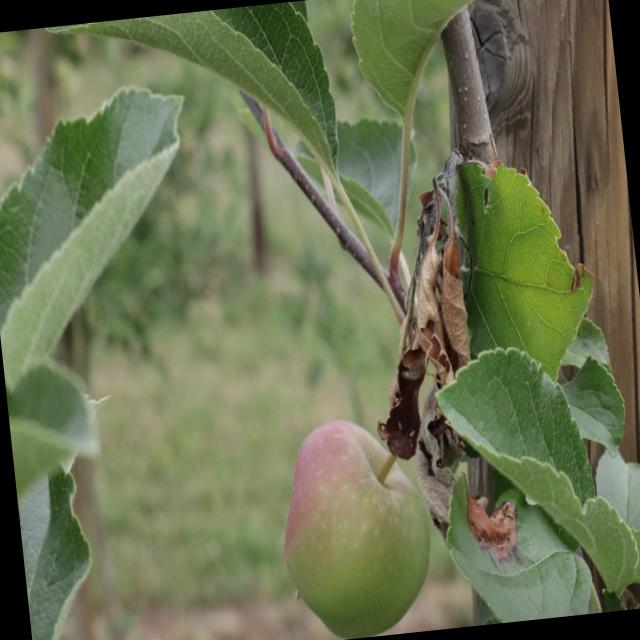-FireBlight-: (387, 200, 526, 555)
